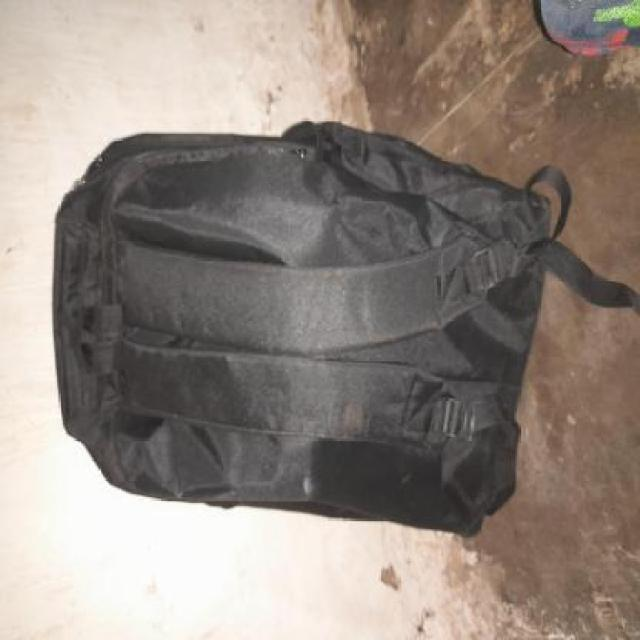backpack: (51, 117, 575, 540)
